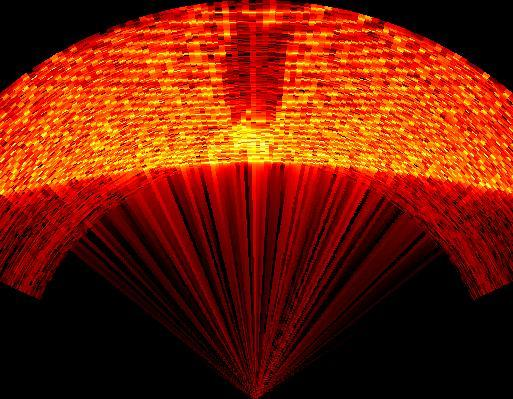box_crate: (223, 24, 291, 126)
